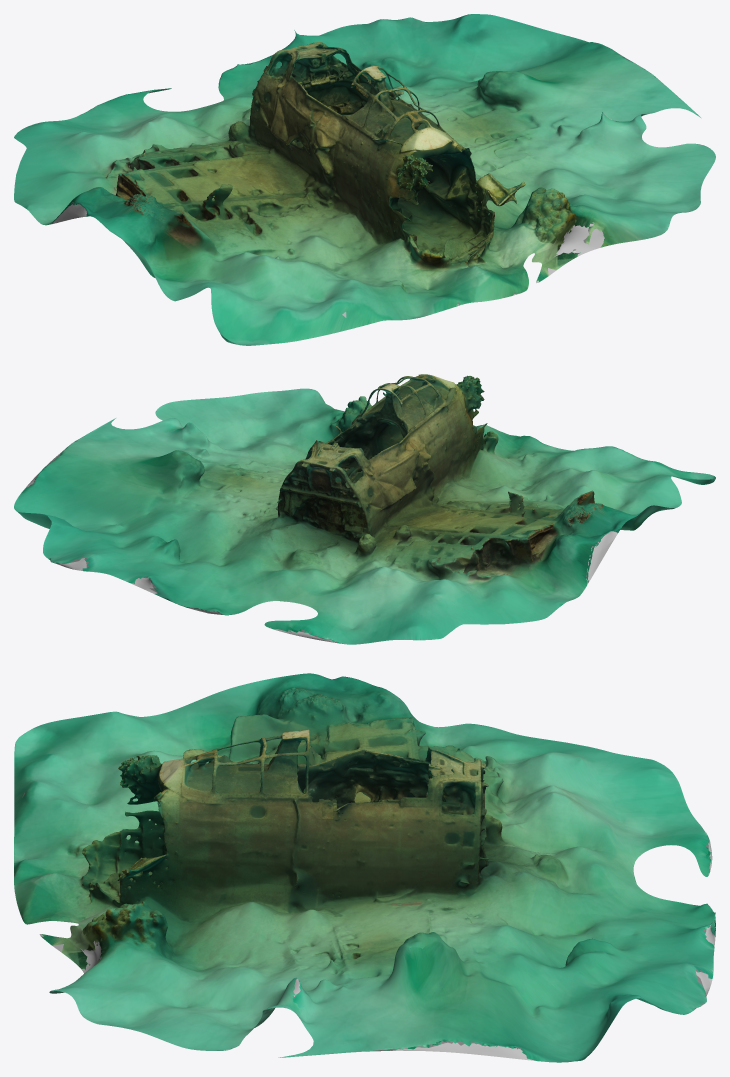
The model's file is japanese_zero_plane_wreck.glb.
The picture shows the model from 3 angles, top to bottom: view 1: azimuth 30°, elevation 25°; view 2: azimuth 150°, elevation 25°; view 3: azimuth 270°, elevation 25°; orthographic projection. The views are drawn at different scales.
Visible parts, largest first — view 1: Object_4, Object_2, Object_6, Object_5, Object_3, Object_8, Object_7; view 2: Object_6, Object_4, Object_2, Object_5, Object_8, Object_3; view 3: Object_4, Object_6, Object_2, Object_5, Object_8.
Boxes of the visible parts, x1,y1,x2,y2 form: Object_4: (73,14,715,342); Object_2: (14,39,701,307); Object_6: (14,33,648,282); Object_5: (21,47,451,345); Object_3: (244,71,416,239); Object_8: (50,50,628,317); Object_7: (247,155,366,233); Object_6: (59,374,587,624); Object_4: (14,377,672,611); Object_2: (71,374,688,644); Object_5: (217,376,715,644); Object_8: (23,428,617,643); Object_3: (371,384,509,512); Object_4: (14,679,715,1062); Object_6: (85,717,715,1047); Object_2: (64,673,705,1057); Object_5: (14,698,710,879); Object_8: (14,792,715,1060).
Size of the model in its own units: 85.84 by 20.26 by 74.33.
4 materials, 3 textured.
